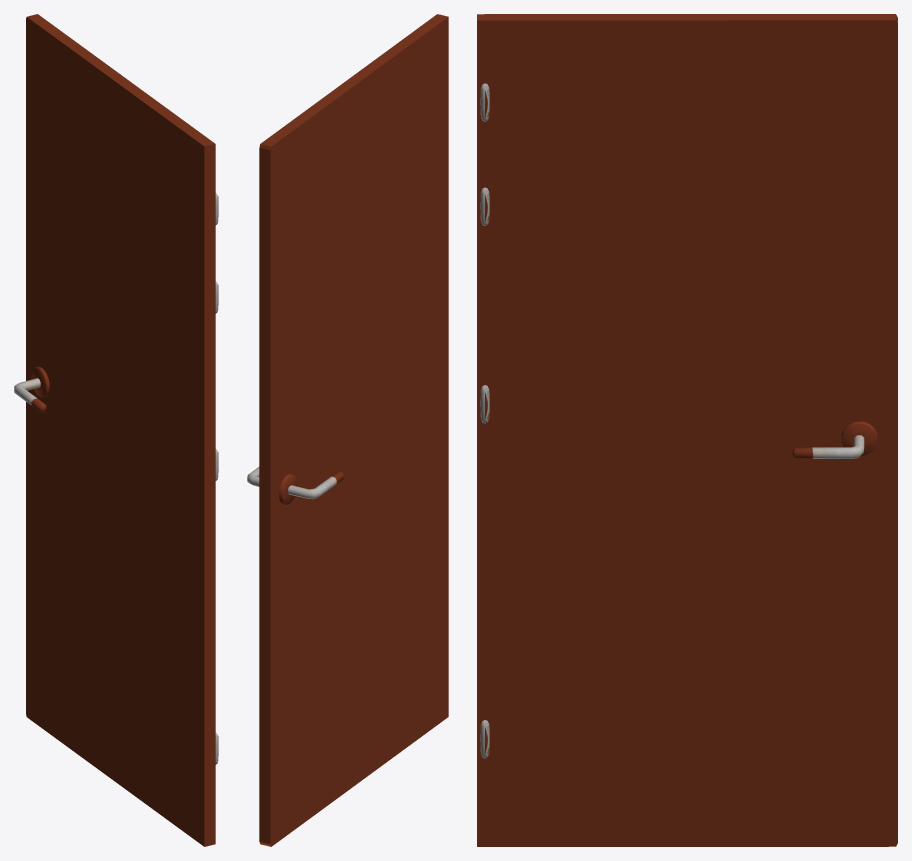
File: PORTEBATTANTpointancrage.fbx
The picture shows the model from 3 angles, left to right: view 1: azimuth 30°, elevation 25°; view 2: azimuth 150°, elevation 25°; view 3: azimuth 270°, elevation 25°; orthographic projection. The views are drawn at different scales.
Visible parts, largest first — view 1: Cube.057, Cube.060, Cube.058; view 2: Cube.057, Cube.060; view 3: Cube.057, Cube.059, Cube.058.
Part boxes in pixels (<box>): Cube.057: <box>26,14,215,846</box>; Cube.060: <box>14,367,49,412</box>; Cube.058: <box>215,193,218,764</box>; Cube.057: <box>259,14,448,846</box>; Cube.060: <box>279,471,344,504</box>; Cube.057: <box>477,14,897,846</box>; Cube.059: <box>792,421,877,458</box>; Cube.058: <box>480,83,489,758</box>.
Bounding box in the file's own units: 22.36 × 207 × 95.66.
2 materials, 2 textured.
